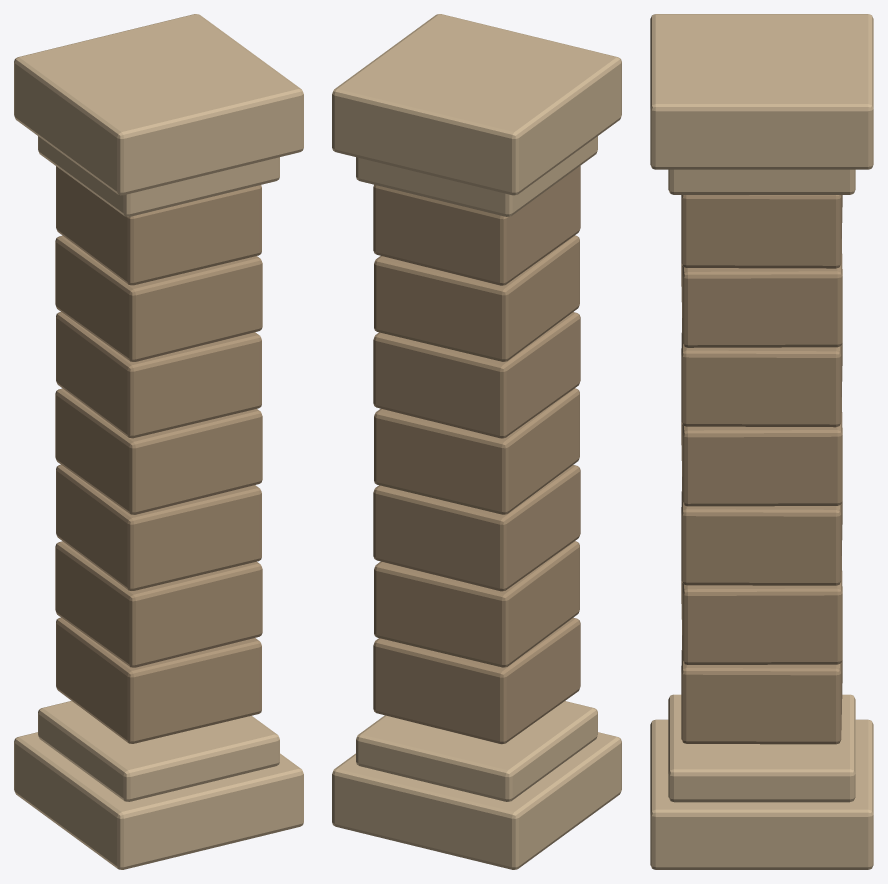
The model's file is pillar.glb.
3 renders of one model, left to right at view 1: azimuth 30°, elevation 25°; view 2: azimuth 150°, elevation 25°; view 3: azimuth 270°, elevation 25°, orthographic. The views are drawn at different scales.
Parts seen in each view (by area): view 1: Pillar molding.003, Pillar molding, Sandstone course.001, Sandstone course.003, Sandstone course.005, Sandstone course, Sandstone course.004, Sandstone course.002, Sandstone course.006, Pillar molding.001, Pillar molding.002; view 2: Pillar molding.003, Pillar molding, Sandstone course.004, Sandstone course, Sandstone course.002, Sandstone course.003, Sandstone course.001, Sandstone course.005, Sandstone course.006, Pillar molding.001, Pillar molding.002; view 3: Pillar molding.003, Pillar molding, Sandstone course.001, Sandstone course.002, Sandstone course.004, Sandstone course.005, Sandstone course.003, Sandstone course, Pillar molding.001, Sandstone course.006, Pillar molding.002.
Boxes of the visible parts, x1=… form: Pillar molding.003: x1=14, y1=14, x2=303, y2=195; Pillar molding: x1=14, y1=732, x2=303, y2=869; Sandstone course.001: x1=55, y1=541, x2=262, y2=667; Sandstone course.003: x1=55, y1=388, x2=262, y2=514; Sandstone course.005: x1=55, y1=235, x2=262, y2=361; Sandstone course: x1=56, y1=617, x2=261, y2=743; Sandstone course.004: x1=56, y1=312, x2=261, y2=438; Sandstone course.002: x1=56, y1=464, x2=261, y2=590; Sandstone course.006: x1=56, y1=166, x2=261, y2=285; Pillar molding.001: x1=38, y1=701, x2=279, y2=801; Pillar molding.002: x1=38, y1=136, x2=279, y2=216; Pillar molding.003: x1=332, y1=14, x2=621, y2=195; Pillar molding: x1=332, y1=732, x2=621, y2=869; Sandstone course.004: x1=373, y1=312, x2=580, y2=438; Sandstone course: x1=373, y1=617, x2=580, y2=744; Sandstone course.002: x1=373, y1=465, x2=580, y2=591; Sandstone course.003: x1=374, y1=388, x2=579, y2=514; Sandstone course.001: x1=374, y1=541, x2=579, y2=667; Sandstone course.005: x1=374, y1=235, x2=579, y2=361; Sandstone course.006: x1=373, y1=166, x2=580, y2=285; Pillar molding.001: x1=356, y1=701, x2=597, y2=801; Pillar molding.002: x1=356, y1=136, x2=597, y2=216; Pillar molding.003: x1=650, y1=14, x2=873, y2=169; Pillar molding: x1=650, y1=719, x2=873, y2=869; Sandstone course.001: x1=681, y1=556, x2=842, y2=664; Sandstone course.002: x1=681, y1=477, x2=842, y2=585; Sandstone course.004: x1=681, y1=318, x2=842, y2=427; Sandstone course.005: x1=681, y1=239, x2=842, y2=347; Sandstone course.003: x1=681, y1=397, x2=842, y2=506; Sandstone course: x1=681, y1=635, x2=842, y2=744; Pillar molding.001: x1=668, y1=694, x2=855, y2=802; Sandstone course.006: x1=681, y1=195, x2=842, y2=268; Pillar molding.002: x1=668, y1=169, x2=855, y2=194.
Size of the model in its own units: 0.74 by 2.8 by 0.74.
